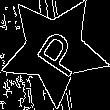P_NW: (24, 21, 84, 80)
